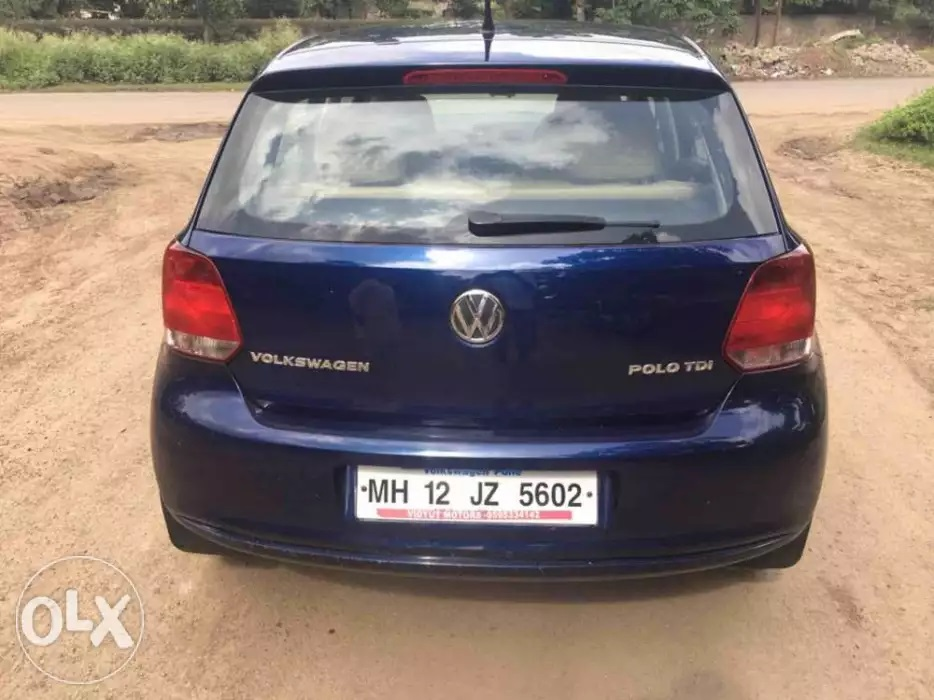licenseplate: (350, 457, 607, 532)
